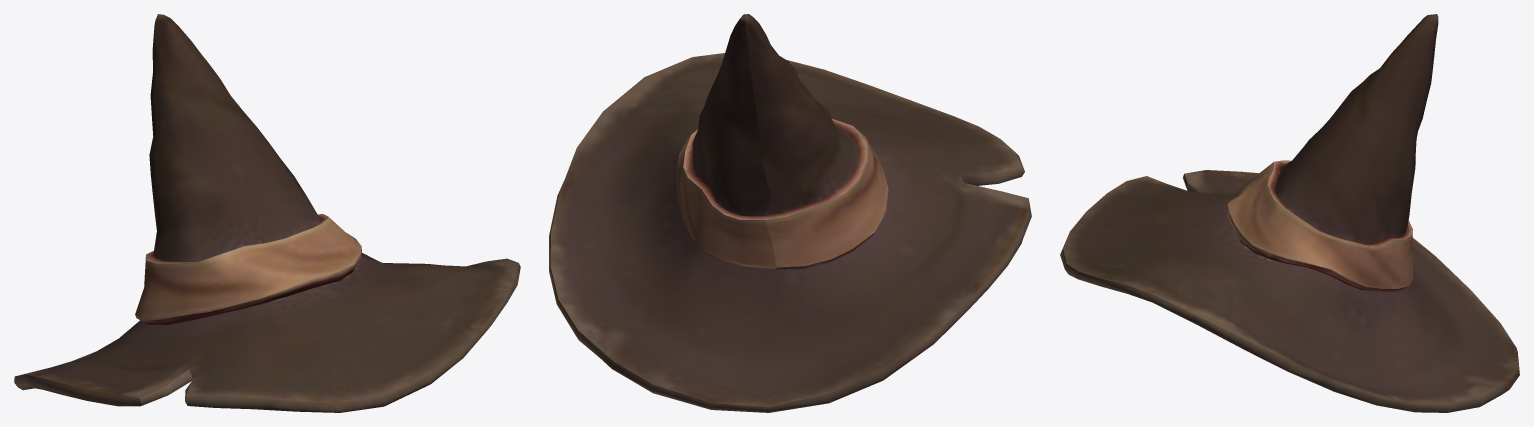
File: hat_wizard.gltf
The picture shows the model from 3 angles, left to right: view 1: azimuth 30°, elevation 25°; view 2: azimuth 150°, elevation 25°; view 3: azimuth 270°, elevation 25°; orthographic projection. The views are drawn at different scales.
Visible parts, largest first — view 1: hat_wizard; view 2: hat_wizard; view 3: hat_wizard.
Part boxes in pixels (x1,y1,x2,y2): hat_wizard: (14,14,520,412); hat_wizard: (549,14,1031,412); hat_wizard: (1060,14,1519,412).
Size of the model in its own units: 1 by 0.8102 by 0.975.
1 material, 1 textured.
